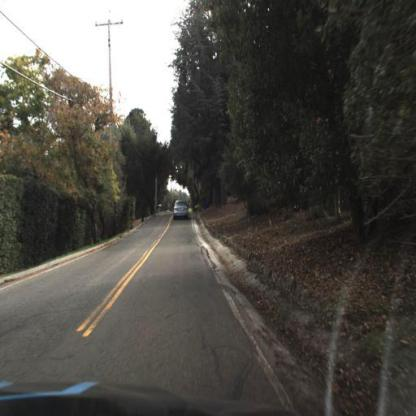car: (172, 194, 192, 220)
